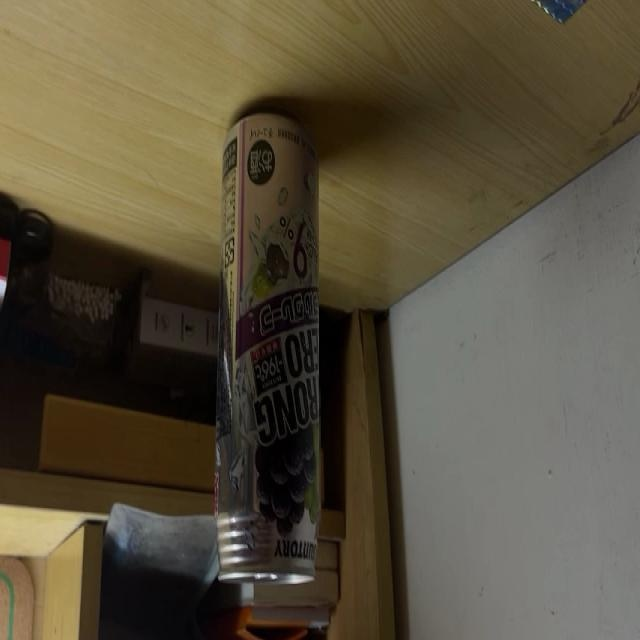Liquor: (218, 102, 324, 588)
